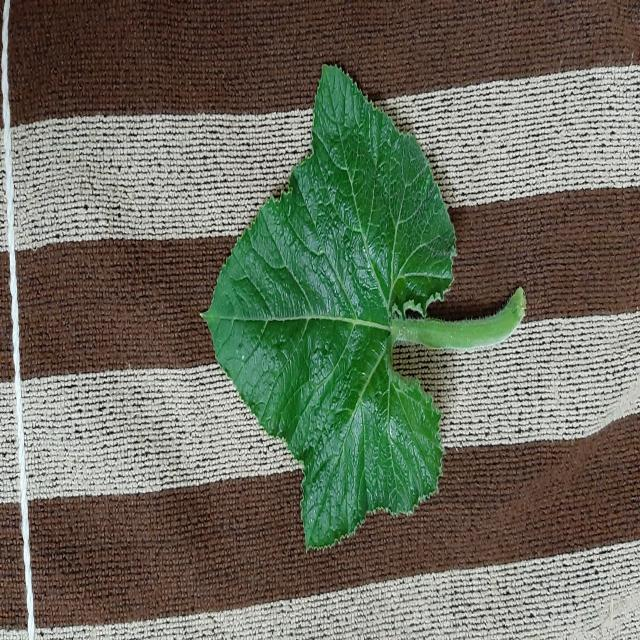pumpkin: (205, 68, 525, 547)
